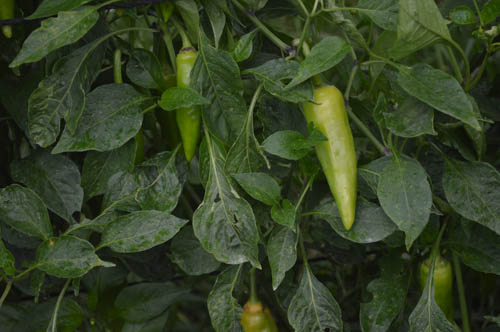ChiliPepper: (301, 83, 368, 235), (170, 45, 206, 164), (419, 247, 459, 327), (232, 289, 282, 332)
